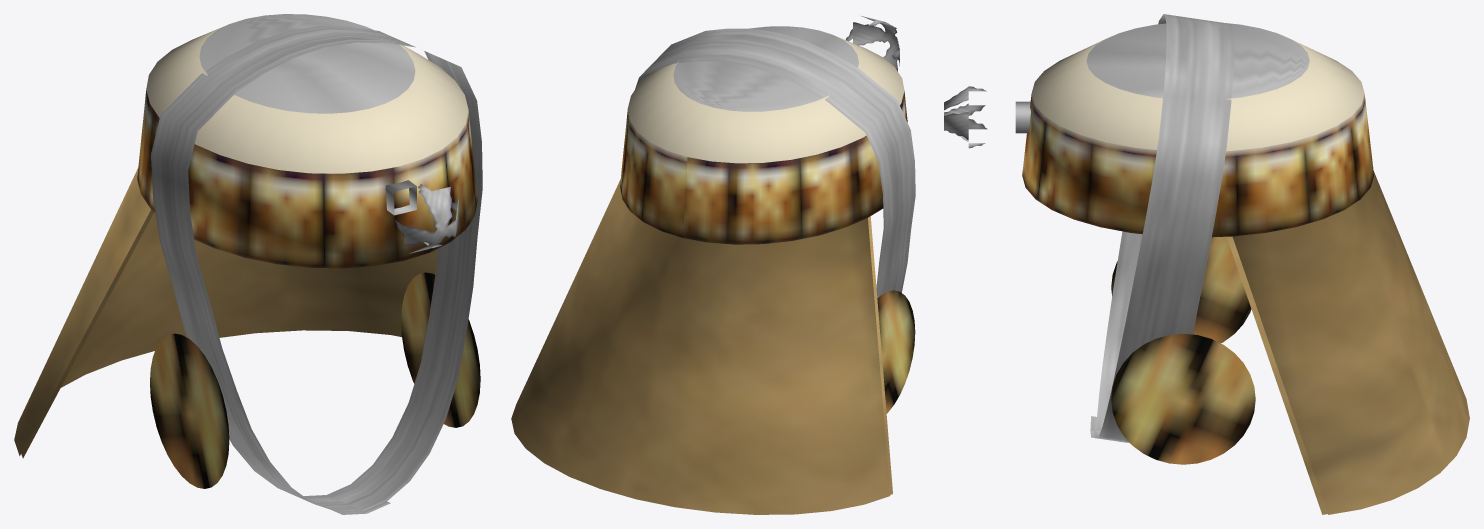
File: helmet_moch_balls_3.dae
3 renders of one model, left to right at view 1: azimuth 30°, elevation 25°; view 2: azimuth 150°, elevation 25°; view 3: azimuth 270°, elevation 25°, orthographic. The views are drawn at different scales.
Parts seen in each view (by area): view 1: helmet_moch_balls_3; view 2: helmet_moch_balls_3; view 3: helmet_moch_balls_3.
Boxes of the visible parts, box(x1,y1,x2,y2) form: helmet_moch_balls_3: box(14, 14, 482, 514); helmet_moch_balls_3: box(511, 16, 915, 514); helmet_moch_balls_3: box(944, 14, 1469, 514).
Bounding box in the file's own units: 0.7223 × 0.8304 × 0.7066.
